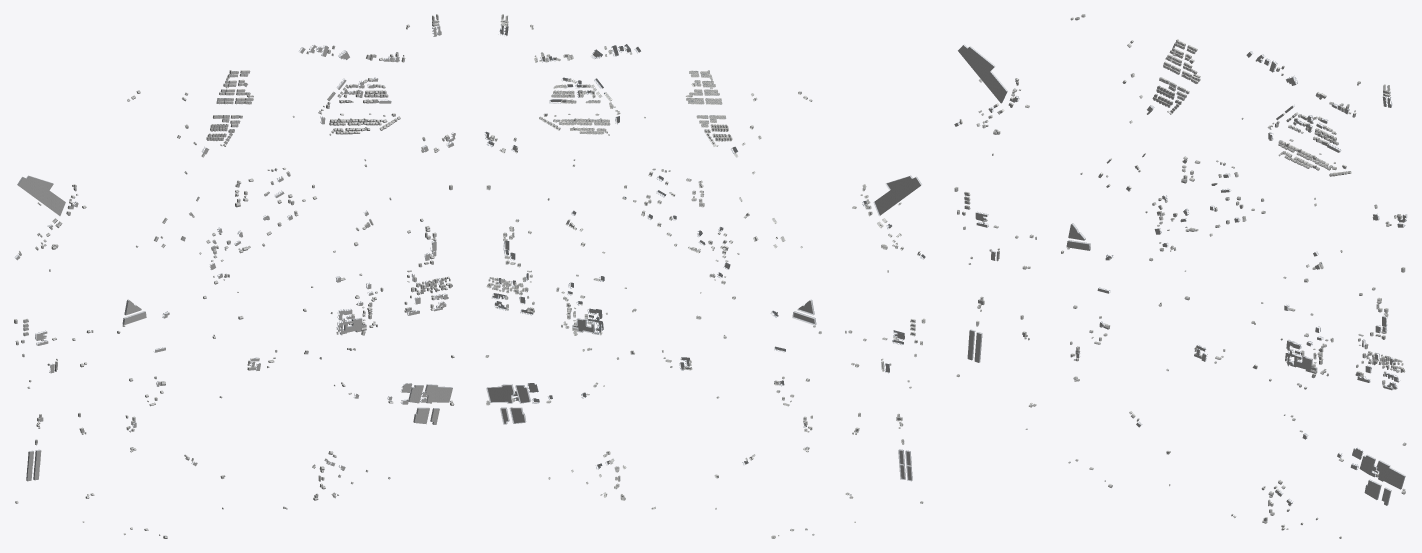
File: buildings_1_0.obj
3 renders of one model, left to right at view 1: azimuth 30°, elevation 25°; view 2: azimuth 150°, elevation 25°; view 3: azimuth 330°, elevation 25°, orthographic. The views are drawn at different scales.
Bounding box in the file's own units: 2014 × 2006 × 23.29.
5 materials, 5 textured.
